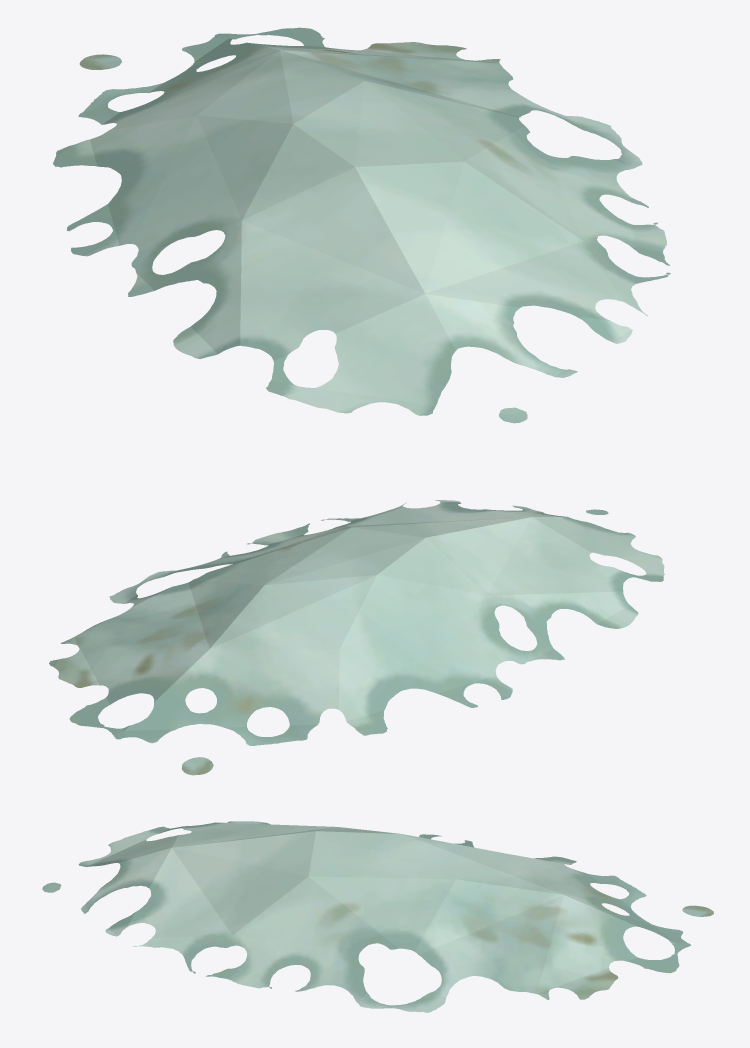
File: small_hill03_grassblend.fbx
3 renders of one model, top to bottom at view 1: azimuth 30°, elevation 25°; view 2: azimuth 150°, elevation 25°; view 3: azimuth 270°, elevation 25°, orthographic. The views are drawn at different scales.
Parts seen in each view (by area): view 1: obj0.084; view 2: obj0.084; view 3: obj0.084.
Part boxes in pixels (left/top/right/bottom): obj0.084: left=53, top=27, right=670, bottom=423; obj0.084: left=49, top=500, right=664, bottom=775; obj0.084: left=42, top=821, right=713, bottom=1012.
Size of the model in its own units: 8.33 by 1.28 by 11.3.
